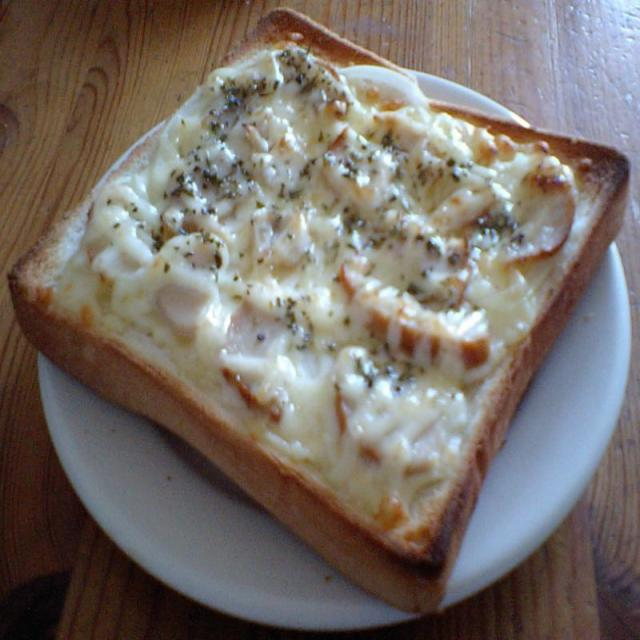面包点心: (0, 5, 637, 634)
